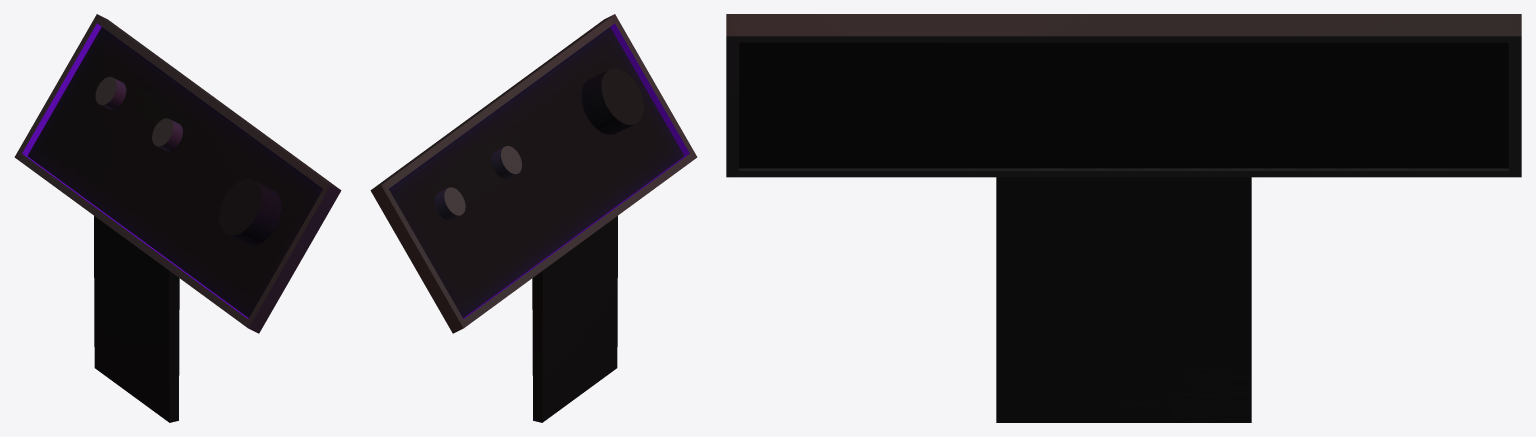
File: Console.gltf
The picture shows the model from 3 angles, left to right: view 1: azimuth 30°, elevation 25°; view 2: azimuth 150°, elevation 25°; view 3: azimuth 270°, elevation 25°; orthographic projection. The views are drawn at different scales.
Visible parts, largest first — view 1: Cube.006, StartButton, EasyButton, JoinButton; view 2: Cube.006, StartButton, JoinButton, EasyButton; view 3: Cube.006.
Part boxes in pixels (<box>): Cube.006: <box>14,14,341,422</box>; StartButton: <box>219,179,281,245</box>; EasyButton: <box>152,118,182,151</box>; JoinButton: <box>95,77,126,109</box>; Cube.006: <box>370,14,697,422</box>; StartButton: <box>581,68,643,134</box>; JoinButton: <box>434,187,465,220</box>; EasyButton: <box>491,146,522,178</box>; Cube.006: <box>726,14,1521,422</box>.
Bounding box in the file's own units: 0.7128 × 2.02 × 3.1.
Materials: 5 (5 with a texture image).
